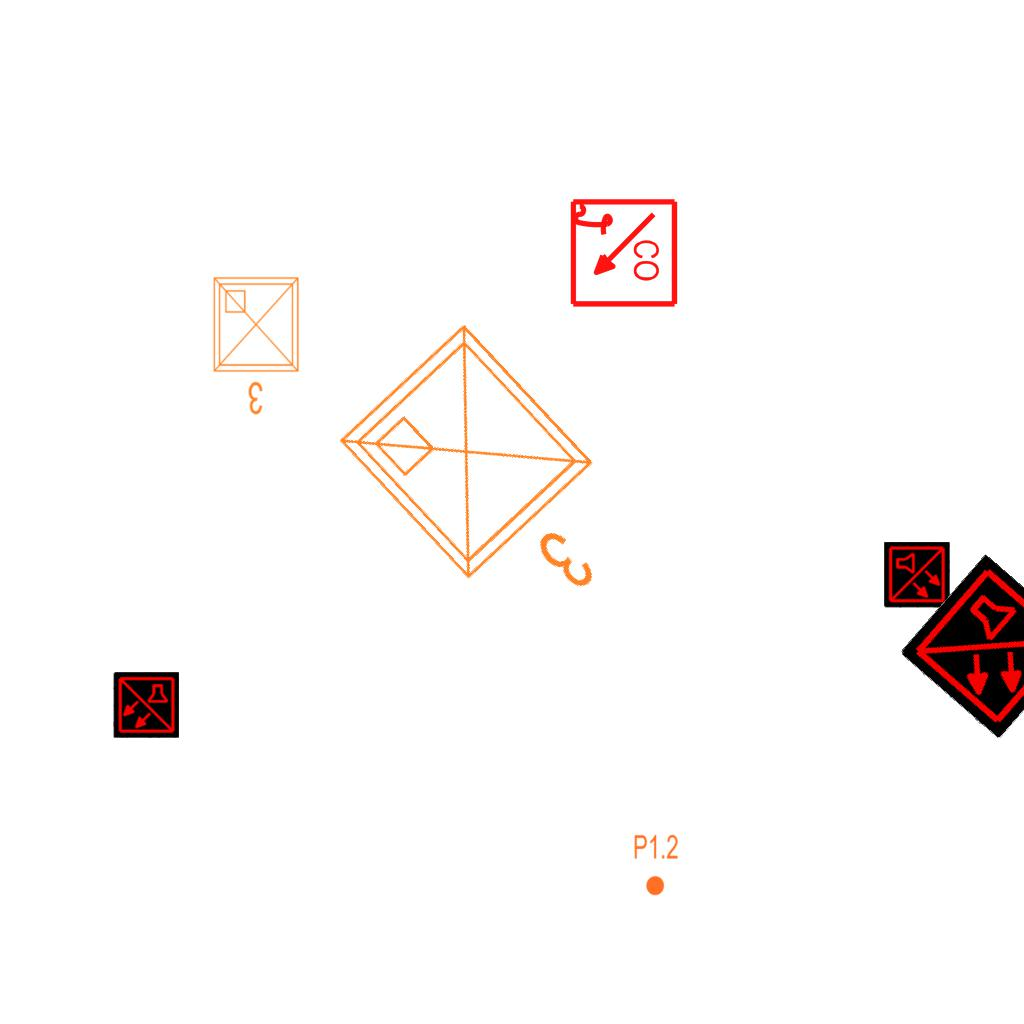Downlight_LED_Einbauleuchten_Flur: (633, 833, 679, 897)
Einbaudownlights_LED_Konferenzraeume: (318, 298, 676, 660), (206, 270, 310, 420)
OKW_Multisensormelder_(Kombination_optischer_Rauch-Kahlenmonoxid_Waerme-Melder): (898, 553, 1024, 741), (884, 542, 950, 608), (113, 672, 179, 738)
ROA_Rauchmelder_optisch_mit_Signalgeber_(Sockelsirene): (566, 197, 679, 310)
